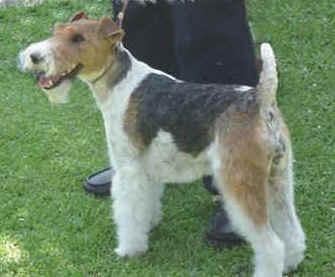wire-haired_fox_terrier: (11, 10, 310, 276)
